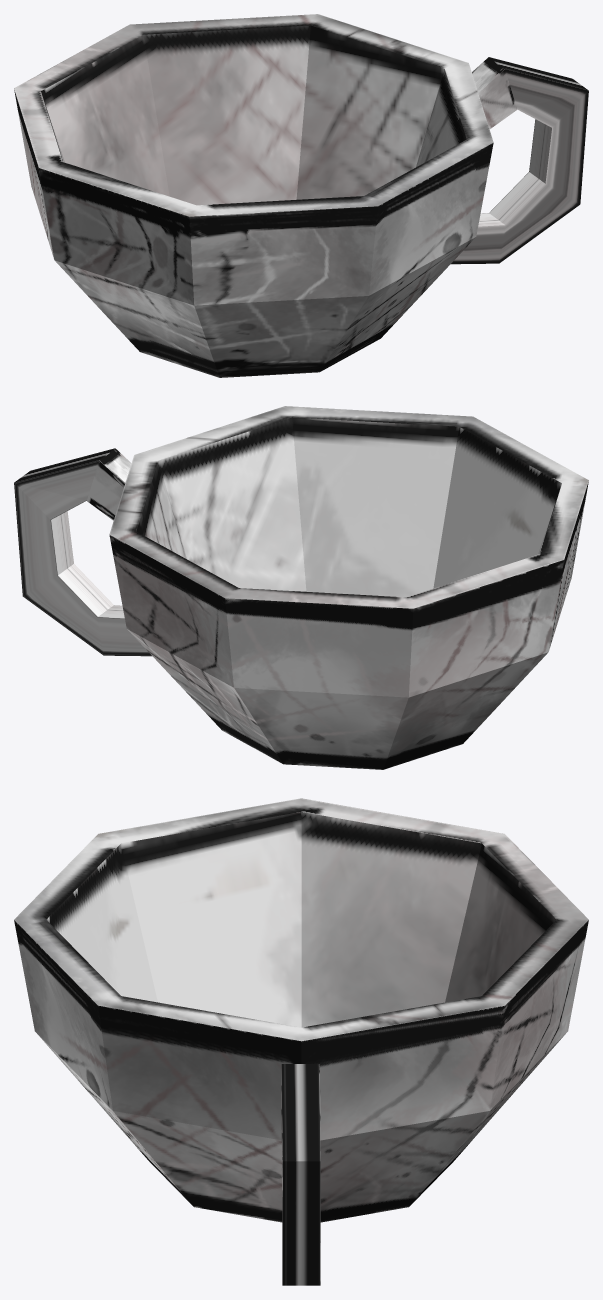
Rendered from mug_empty.glb.
The picture shows the model from 3 angles, top to bottom: view 1: azimuth 30°, elevation 25°; view 2: azimuth 150°, elevation 25°; view 3: azimuth 270°, elevation 25°; orthographic projection. The views are drawn at different scales.
Visible parts, largest first — view 1: Mug Empty; view 2: Mug Empty; view 3: Mug Empty.
Boxes of the visible parts, x1,y1,x2,y2 form: Mug Empty: (14, 14, 588, 377); Mug Empty: (14, 406, 588, 769); Mug Empty: (14, 798, 588, 1285).
Size of the model in its own units: 0.1894 by 0.0698 by 0.1503.
Materials: 1 (1 with a texture image).
